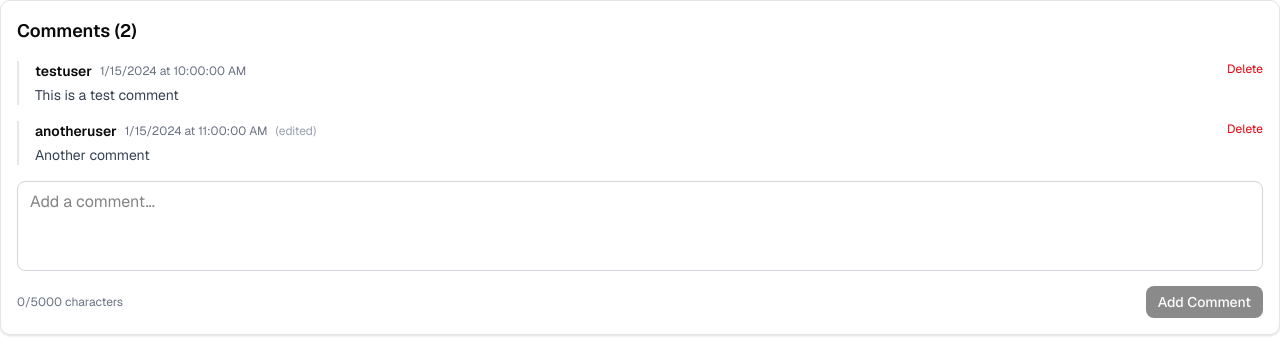
it: CommentSection › Delete Comment Interaction › should delete comment when confirmed
This screenshot has width=1280, height=353.
Expected: the text "This is a test comment" is shown, [35, 86, 179, 104]
Step 1. Click the button with aria-label "Delete comment" → (1245, 69), box [1227, 61, 1263, 77]
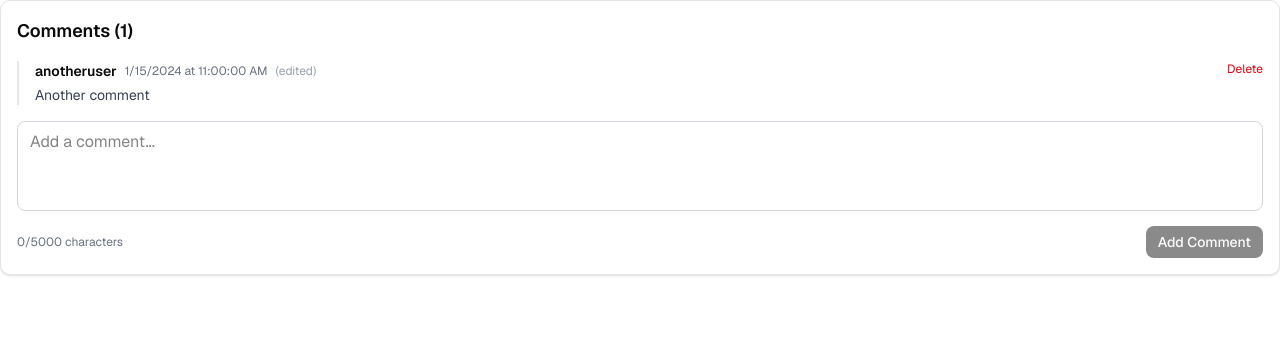
Now the text "This is a test comment" is gone
Now the heading "Comments (1)" is shown, box [17, 19, 133, 42]
